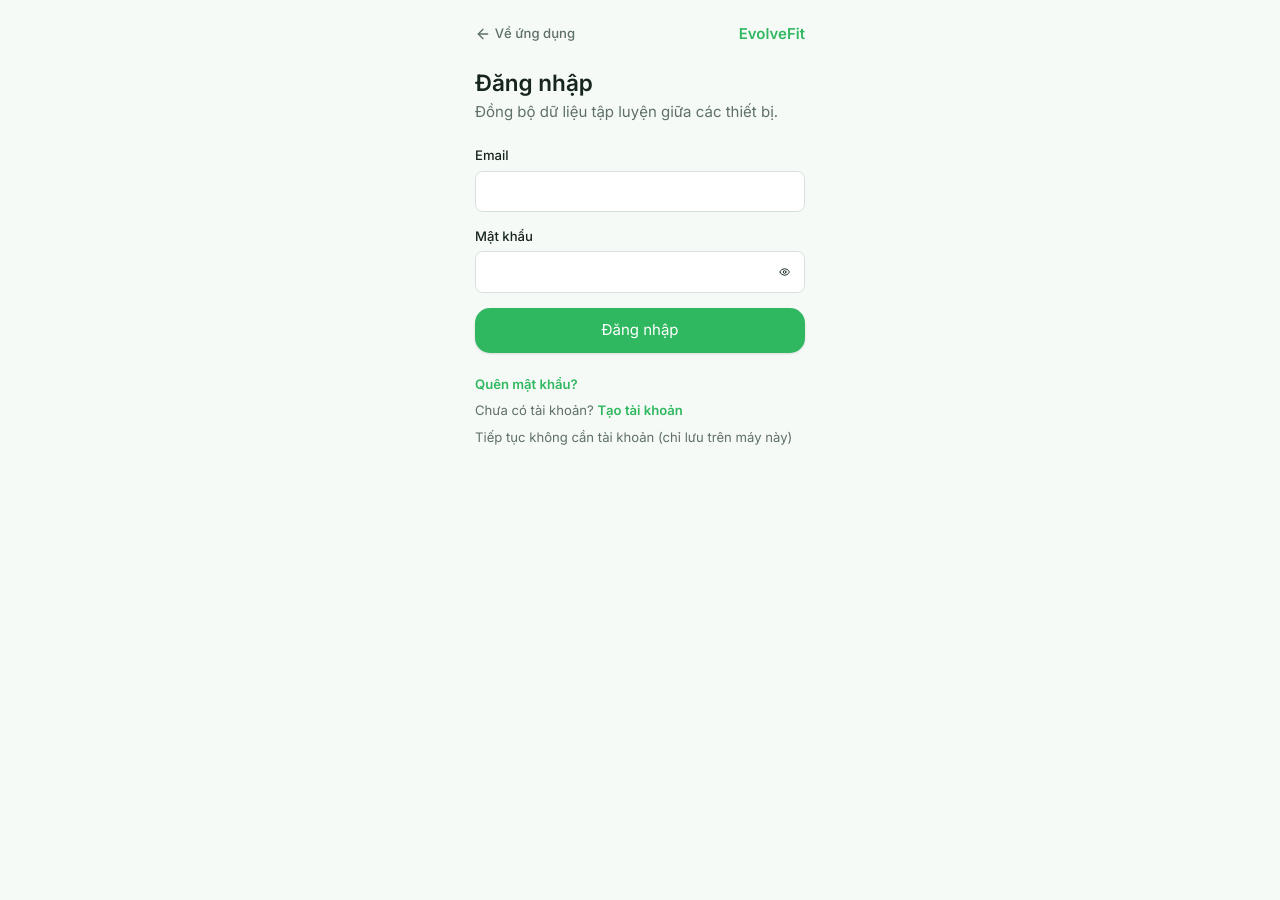
Account namespaces and two-way sync (P2) › shows merge errors inside the dialog and keeps 'Giữ trên máy' usable
Type "phuc@example.com" into the field labelled "Email".
click(640, 191); type("phuc@example.com")  # box [475,171,805,212]
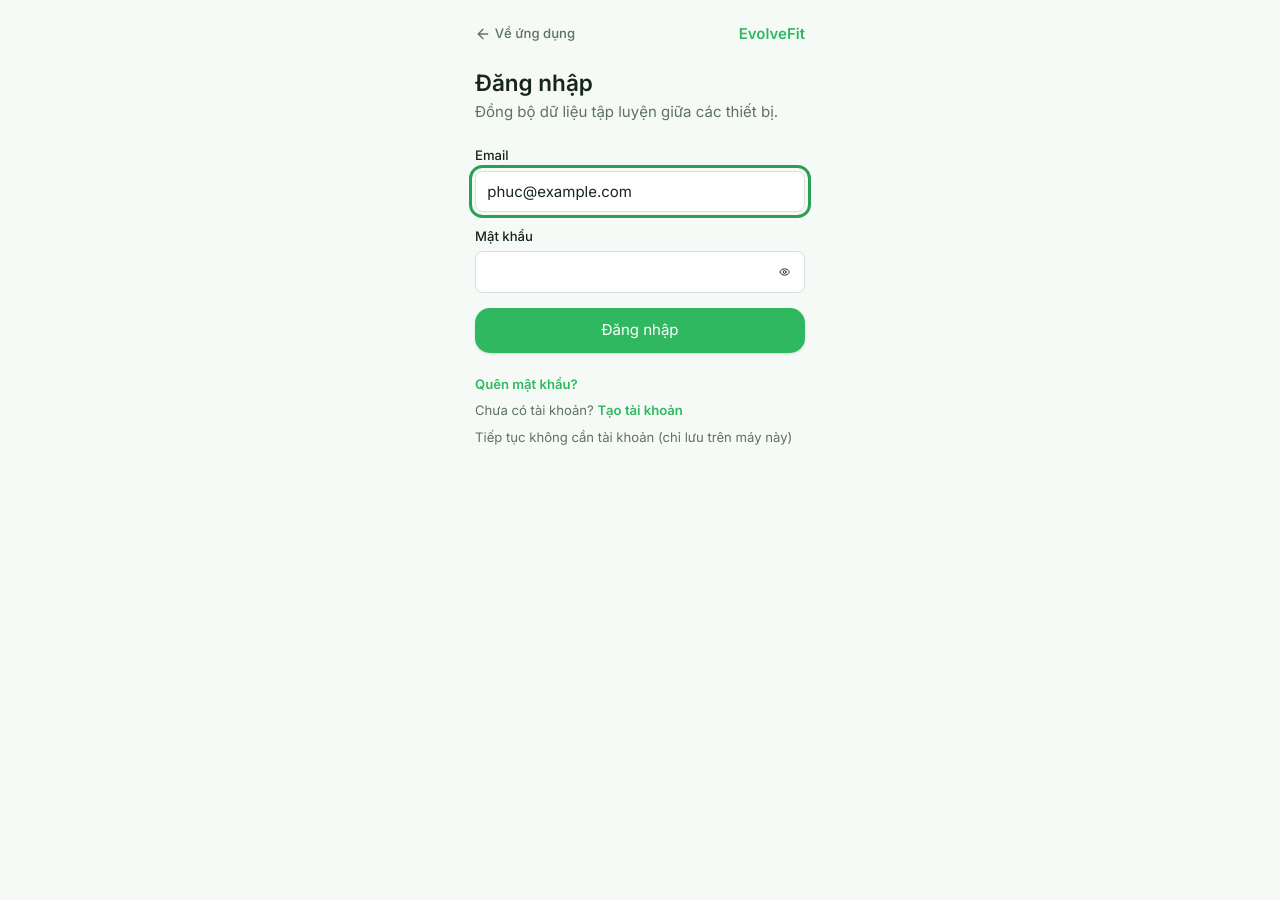
Type "secret123" into the password field labelled "Mật khẩu".
click(640, 272); type("secret123")  # box [475,251,805,293]
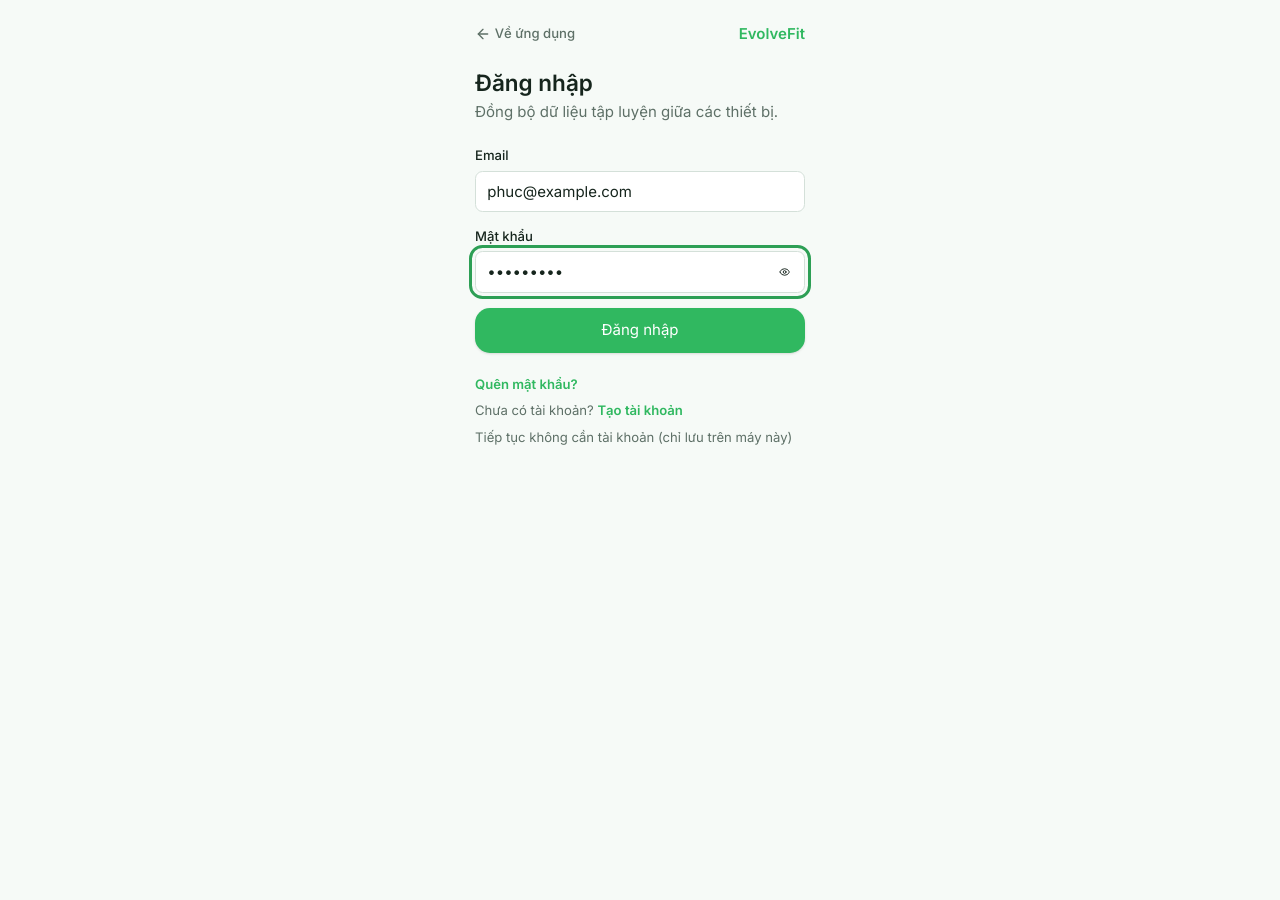
Click the button "Đăng nhập".
click(640, 330)  # box [475,308,805,352]
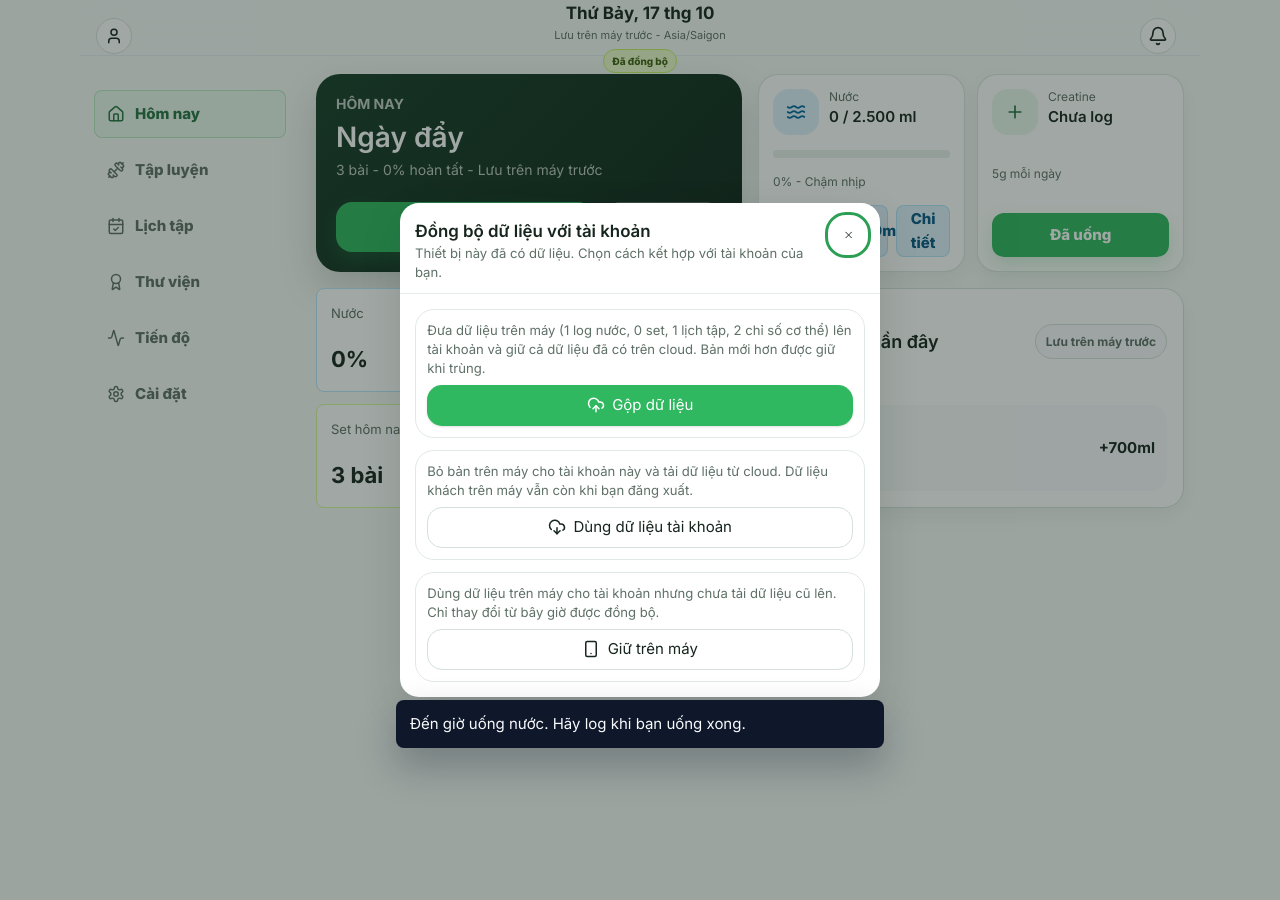
Click the button with aria-label "merge-local-to-cloud".
click(640, 405)  # box [427,385,853,426]
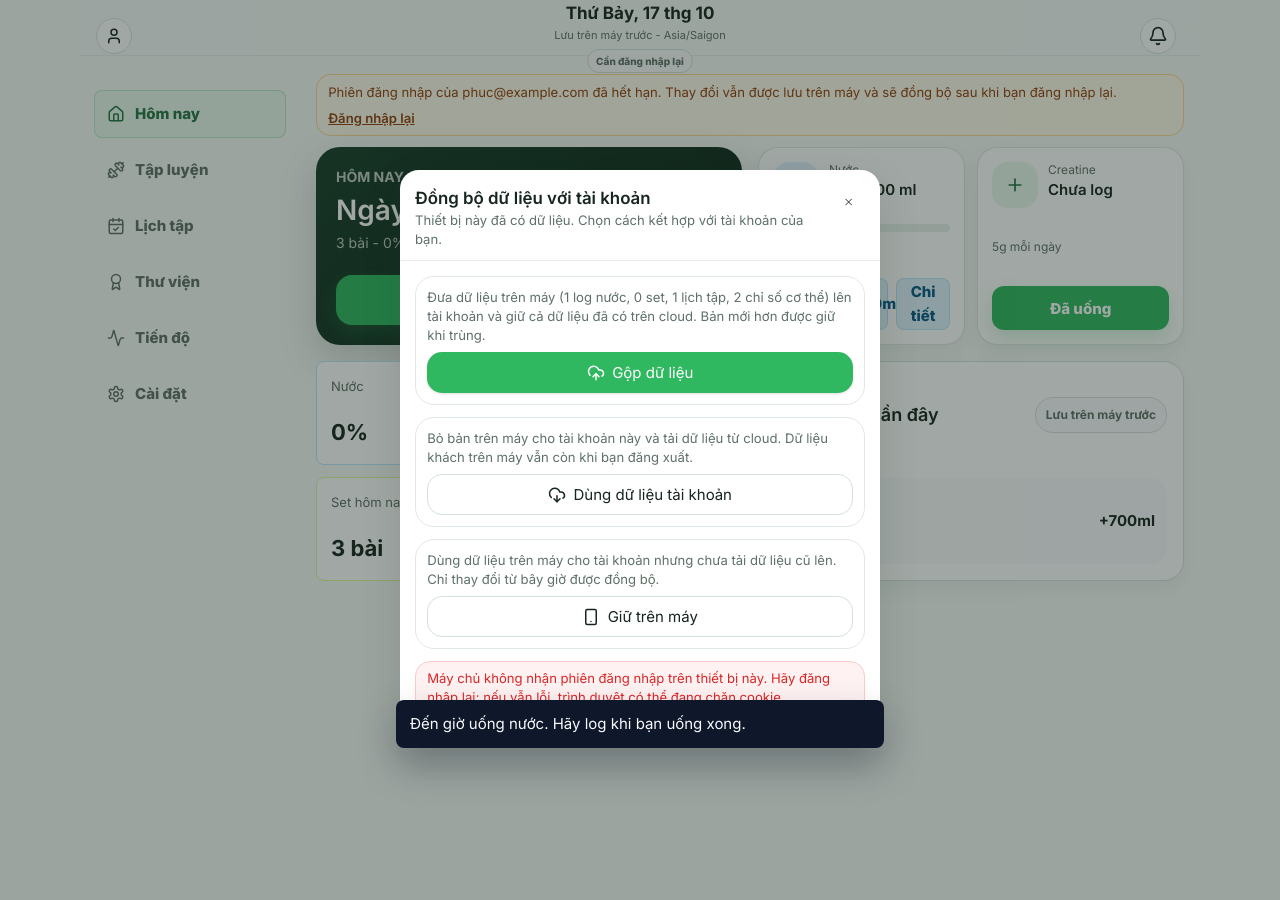
Expected: the 2nd message shows "không nhận phiên đăng nhập", [427,670,830,705]
Click the button with aria-label "keep-local-after-auth".
click(640, 617)  # box [427,596,853,637]
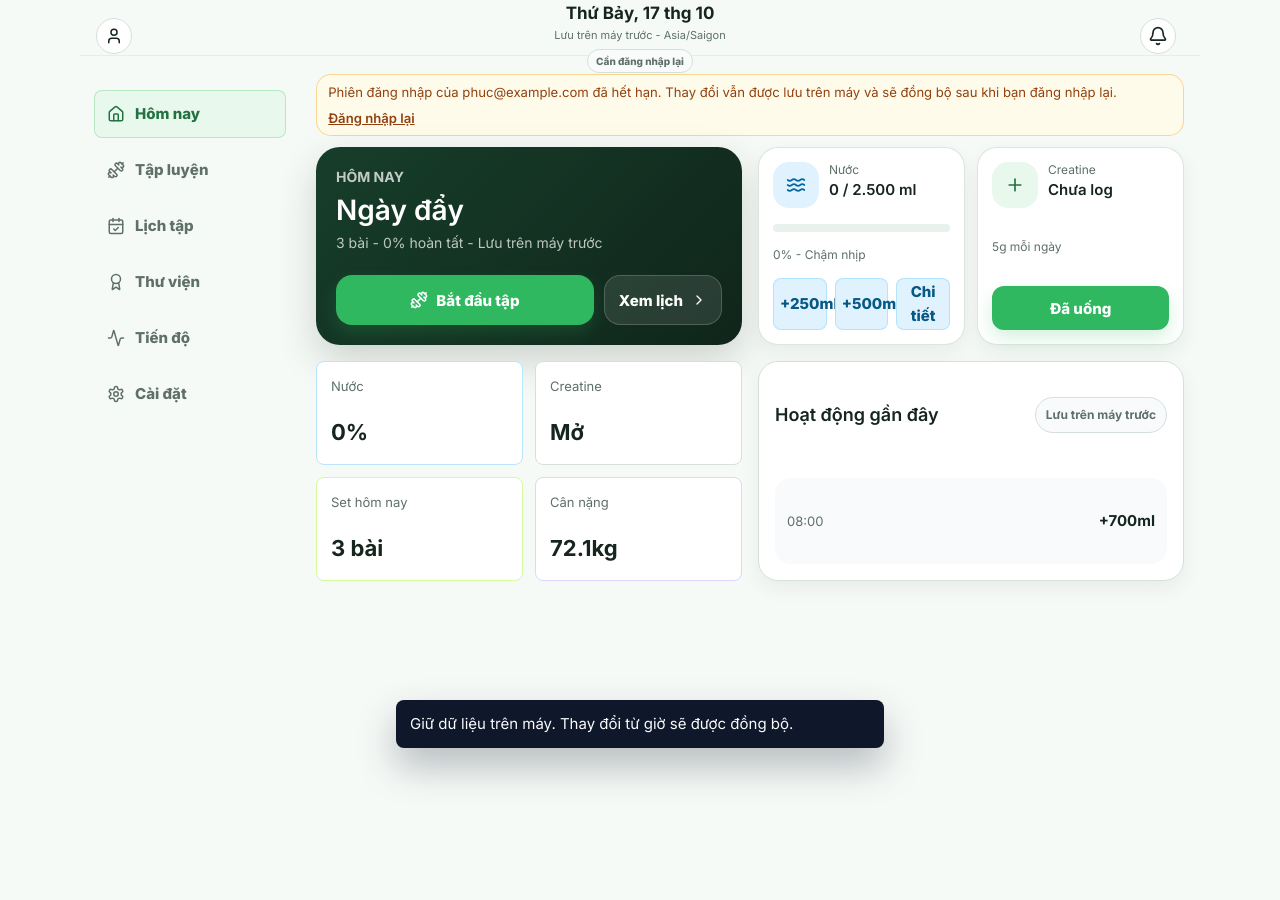
Expected: the dialog is gone
